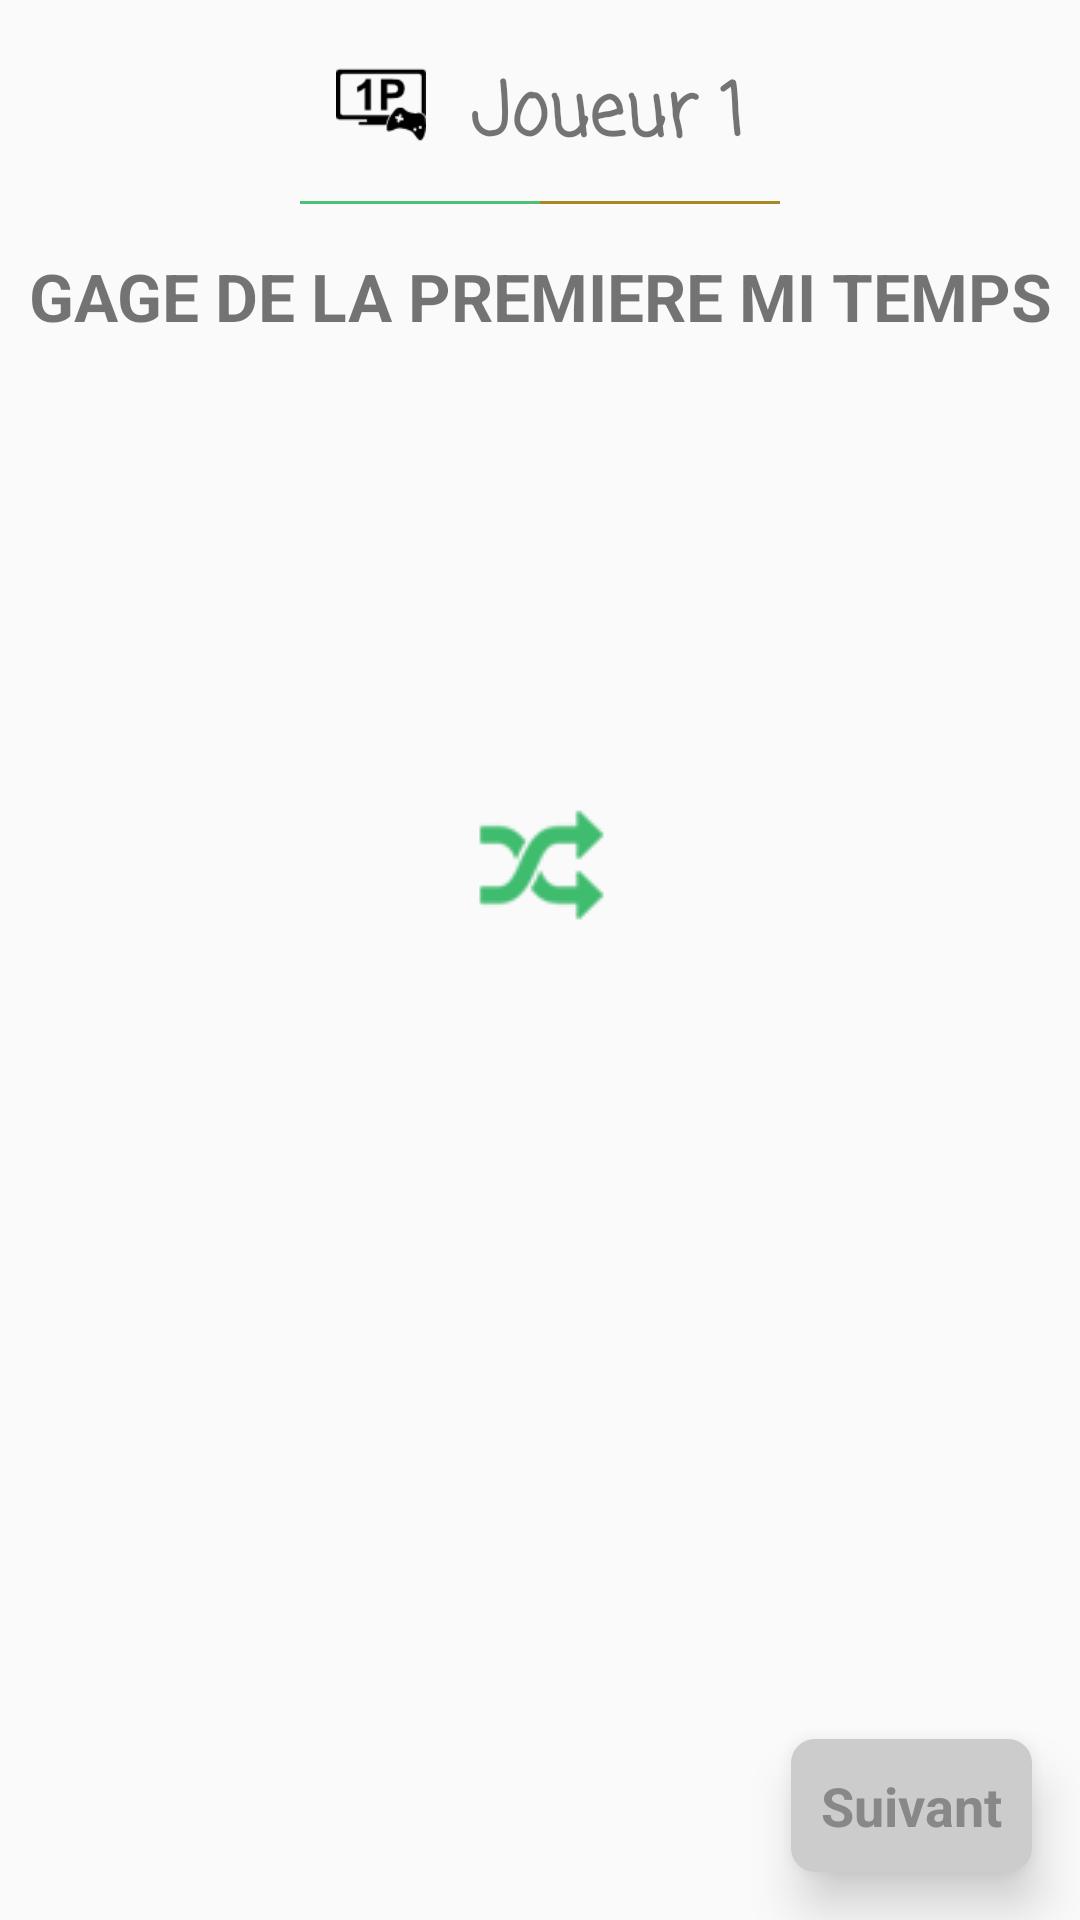

Icon click points for this 1080w x 1920h phone screenshot, format [x,y]:
one player game: [381,104]
roll: [541,865]
